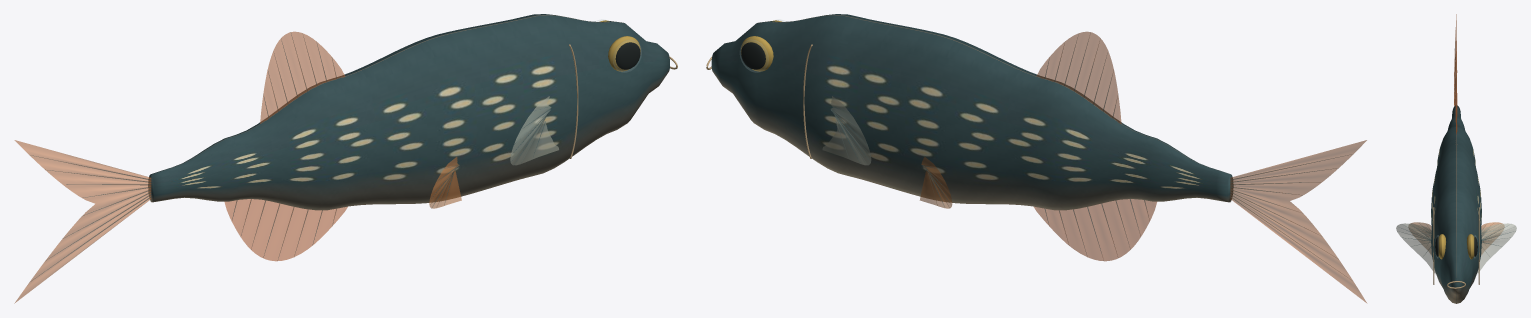
File: pearl-mobile.glb
3 views of the same model, side by side, from view 1: azimuth 30°, elevation 25°; view 2: azimuth 150°, elevation 25°; view 3: azimuth 270°, elevation 25° (orthographic). The views are drawn at different scales.
Visible parts, largest first — view 1: skin, tail, anal, dorsal, dorsal-ray, pectoral-left, pelvic-left, eye-pupil--1, eye-iris--1; view 2: skin, tail, anal, dorsal, dorsal-ray, pectoral-left, pelvic-left, eye-pupil--1, eye-iris--1; view 3: skin, pectoral-left, pelvic-left, eye-iris--1, operculum, dorsal-ray, tail, eye-pupil--1, dorsal.
Boxes of the visible parts, left/top/right/bottom form: skin: left=148, top=14, right=669, bottom=210; tail: left=14, top=140, right=151, bottom=303; anal: left=224, top=199, right=347, bottom=261; dorsal: left=260, top=31, right=344, bottom=123; dorsal-ray: left=32, top=32, right=550, bottom=280; pectoral-left: left=510, top=96, right=558, bottom=165; pelvic-left: left=429, top=157, right=461, bottom=208; eye-pupil--1: left=615, top=42, right=640, bottom=69; eye-iris--1: left=599, top=20, right=640, bottom=71; skin: left=711, top=14, right=1233, bottom=210; tail: left=1230, top=140, right=1366, bottom=302; anal: left=1034, top=199, right=1156, bottom=261; dorsal: left=1037, top=31, right=1121, bottom=123; dorsal-ray: left=831, top=37, right=1350, bottom=279; pectoral-left: left=822, top=96, right=871, bottom=165; pelvic-left: left=920, top=157, right=952, bottom=208; eye-pupil--1: left=741, top=42, right=765, bottom=69; eye-iris--1: left=740, top=20, right=781, bottom=71; skin: left=1431, top=105, right=1481, bottom=303; pectoral-left: left=1396, top=223, right=1516, bottom=273; pelvic-left: left=1408, top=222, right=1504, bottom=254; eye-iris--1: left=1438, top=234, right=1474, bottom=259; operculum: left=1433, top=207, right=1479, bottom=288; dorsal-ray: left=1401, top=49, right=1510, bottom=252; tail: left=1454, top=14, right=1457, bottom=105; eye-pupil--1: left=1435, top=237, right=1477, bottom=256; dorsal: left=1455, top=77, right=1457, bottom=134.
Size of the model in its own units: 0.6032 by 0.1989 by 0.1425.
Materials: 11 (1 with a texture image).
